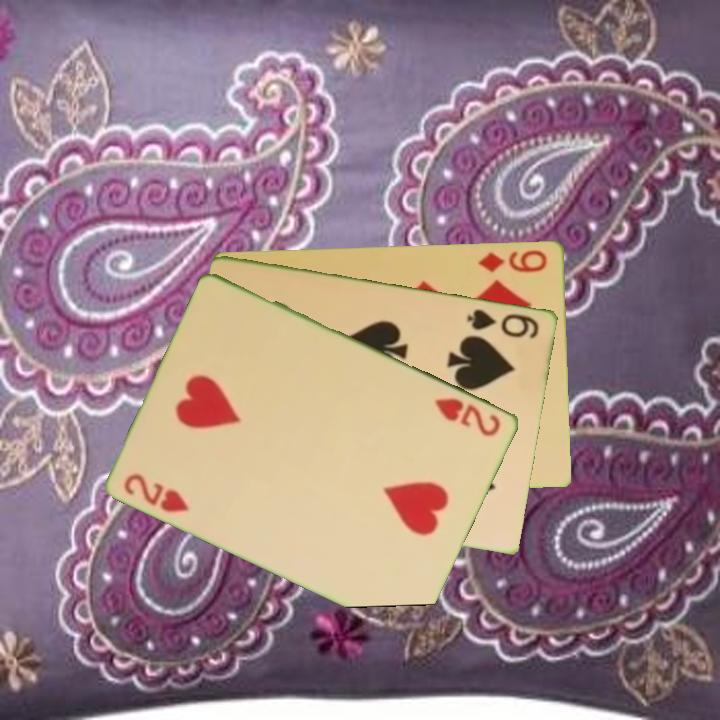2h: (431, 394, 505, 439), (120, 469, 192, 515)
6s: (464, 305, 542, 341)
9d: (475, 246, 550, 275)
